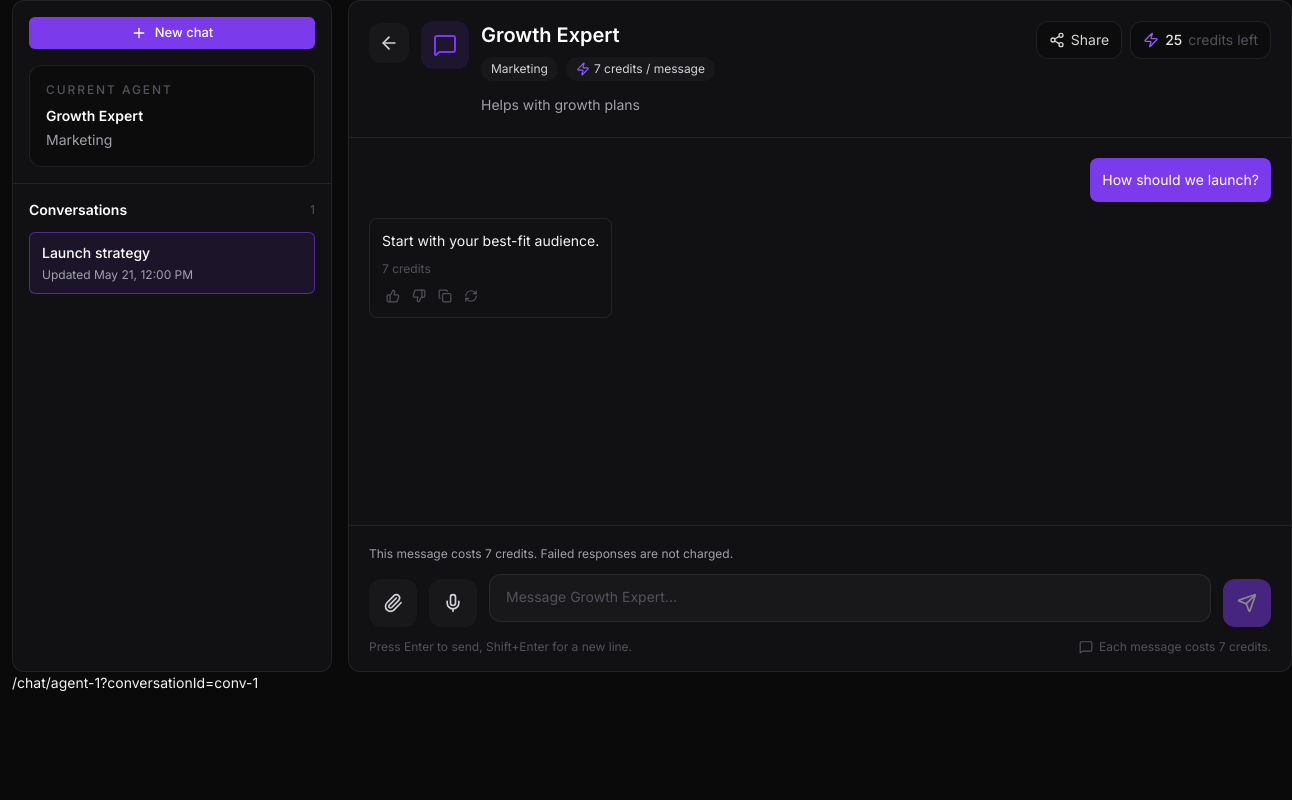
ChatPage › clears the conversationId query param and returns to the welcome state when starting a new chat
The image size is (1292, 800).
Check: the text "How should we launch?" is shown, box [1102, 168, 1259, 192]
Click the button "New chat": (172, 33) [29, 17, 315, 49]
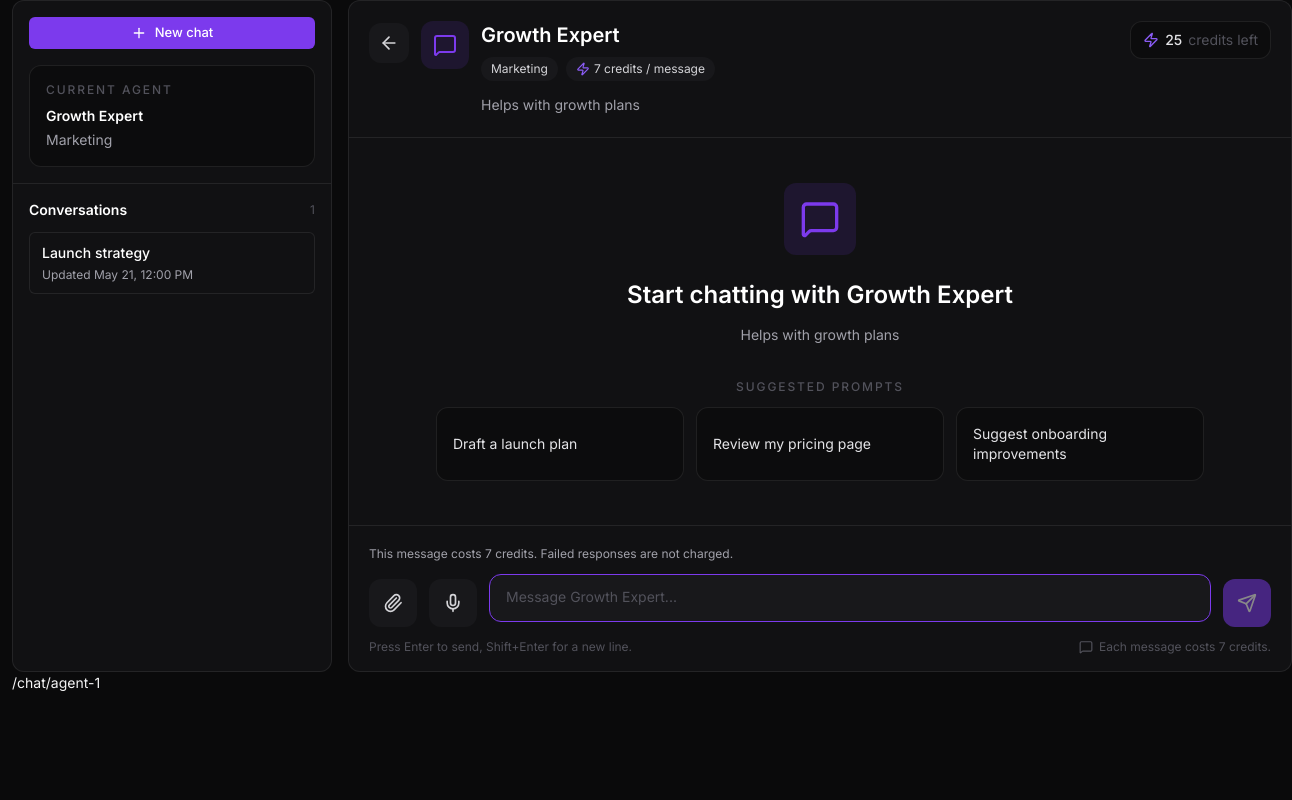
Check: the text with test id "location-display" reads "/chat/agent-1", box [12, 674, 100, 691]
Check: the heading "Start chatting with Growth Expert" is shown, box [627, 278, 1013, 310]
Check: the text "How should we launch?" is gone
